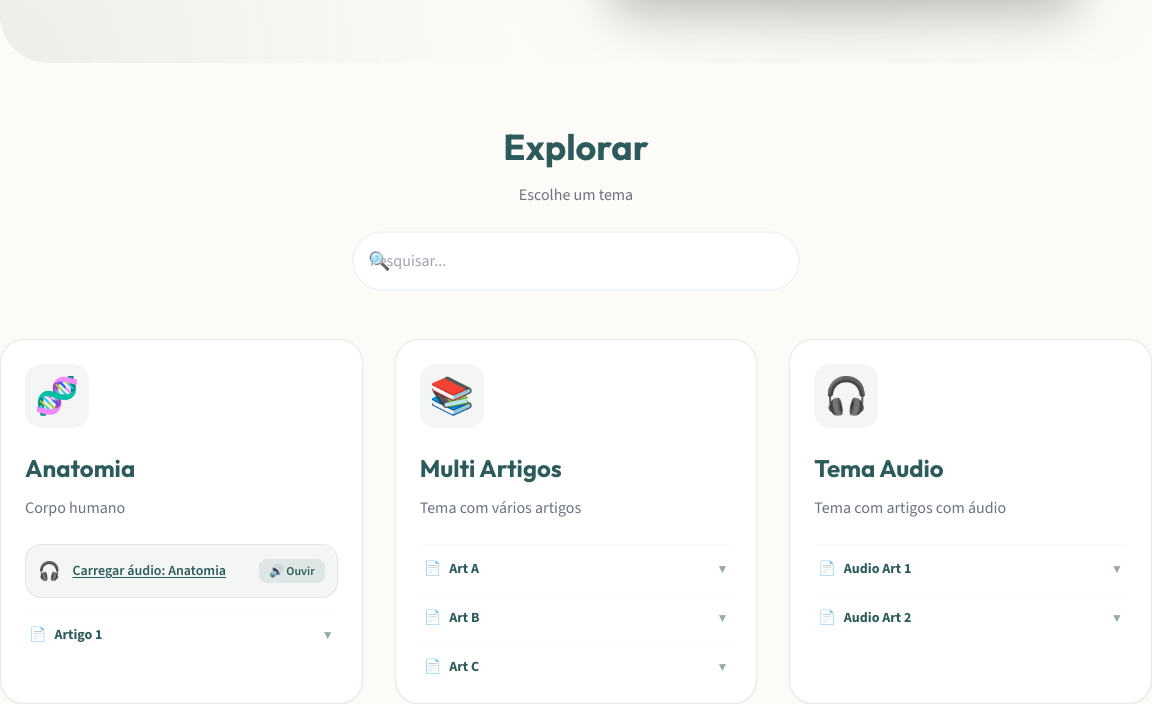
HomeTab › renders article content after opening details
(page scrolled)
expect the heading "Anatomia" is shown: met, box [25,453,135,483]
Click the text "Artigo 1".
click(66, 635)  # box [29,625,102,645]
(page scrolled)
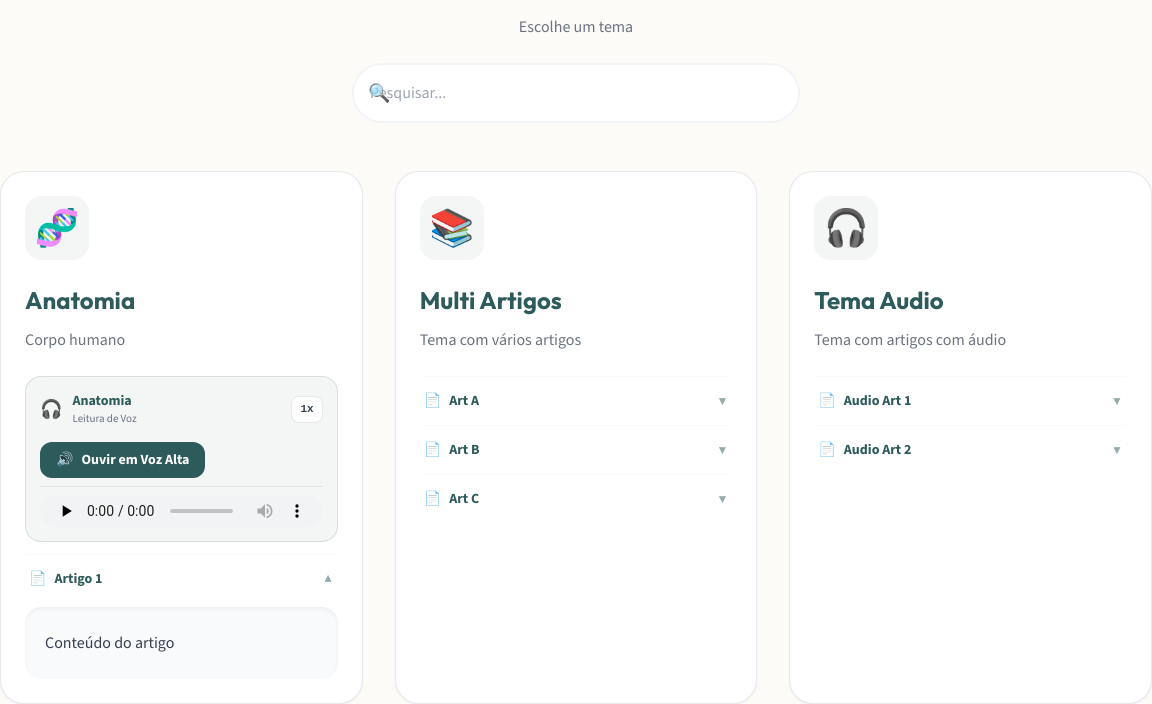
expect the text "Conteúdo do artigo" is shown: met, box [25,606,338,678]
